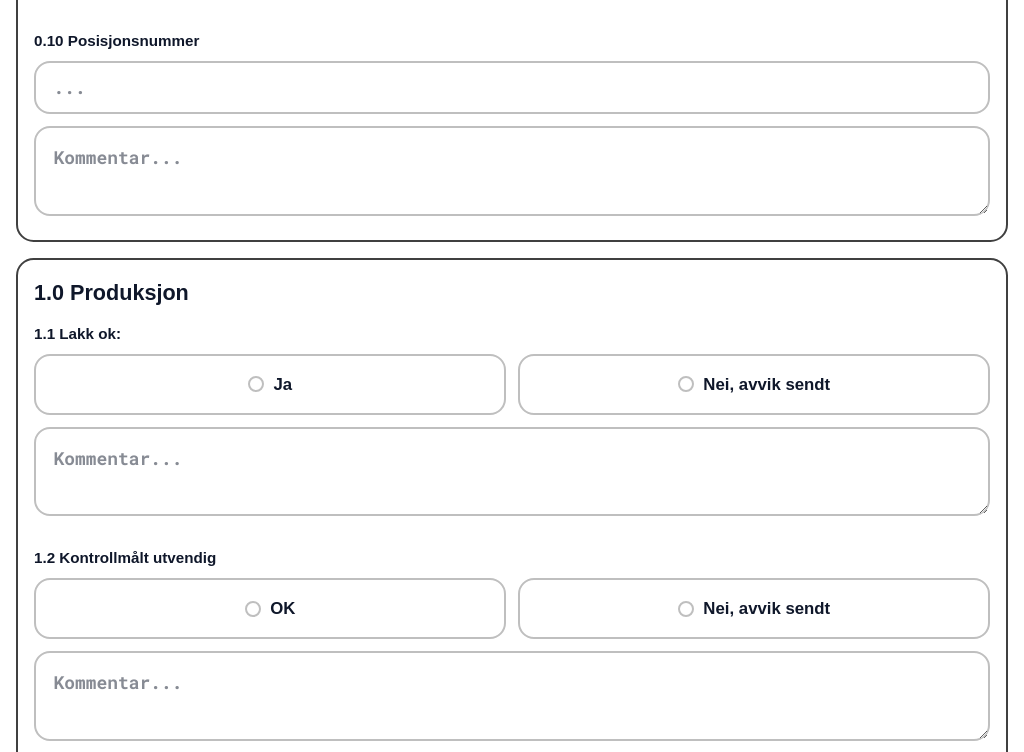
it: KSBrannprodukterScreen › renders the form and updates progress when a radio option is selected
(page scrolled)
Click "Ja" on 1.1 Lakk ok (first Ja button) → progress 1/27
What coordinates should you click on to do the following:
click the button "Ja"
I would click on:
 (256, 384)
Its box is [34,354,506,415].
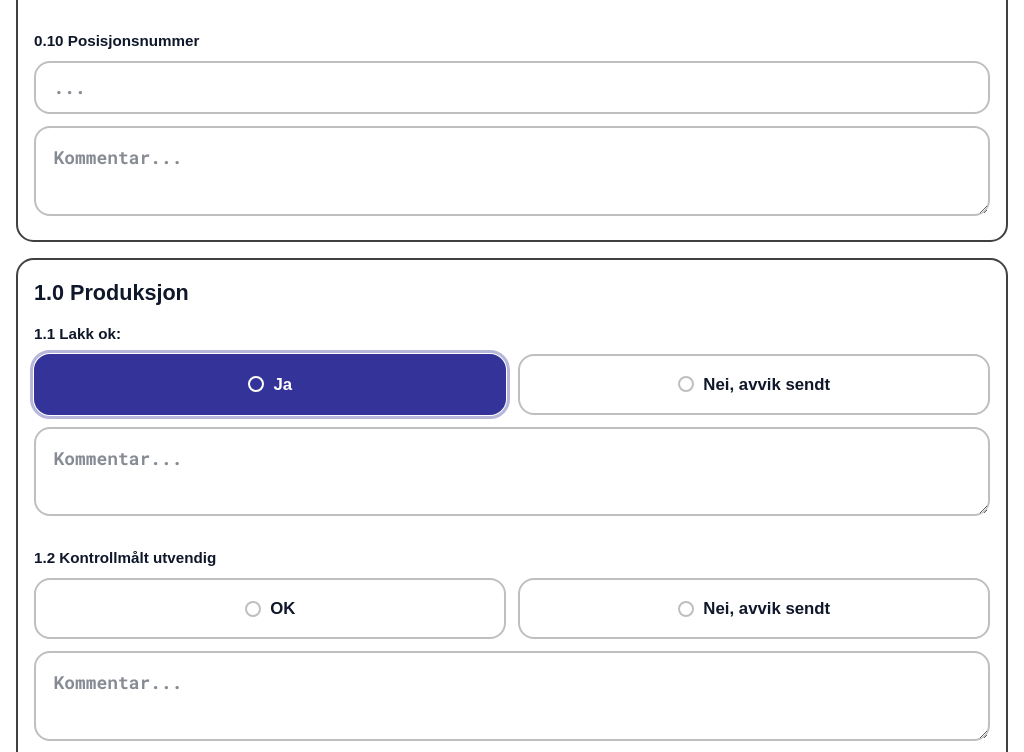
Click "OK" on 1.2 Kontrollmålt (first OK button) → progress 2/27
What coordinates should you click on to do the following:
click the button "OK"
I would click on:
 (270, 609)
Its box is [34,578,506,639].
(page scrolled)
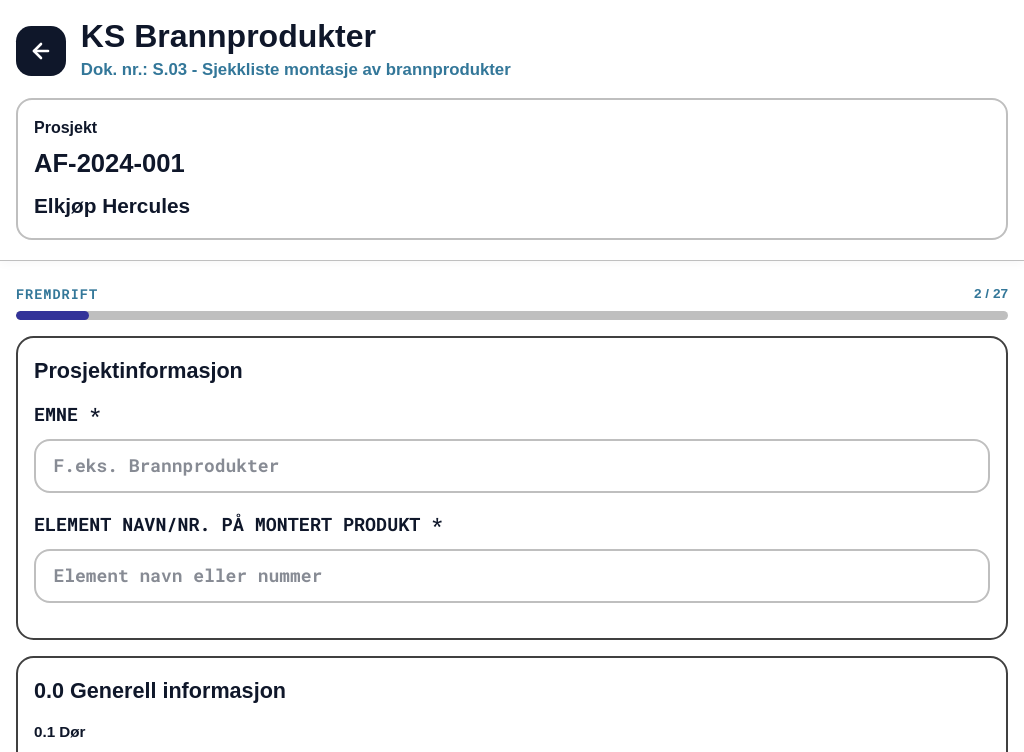
Now the text "2 / 27" is shown, box [974,284,1008,304]
